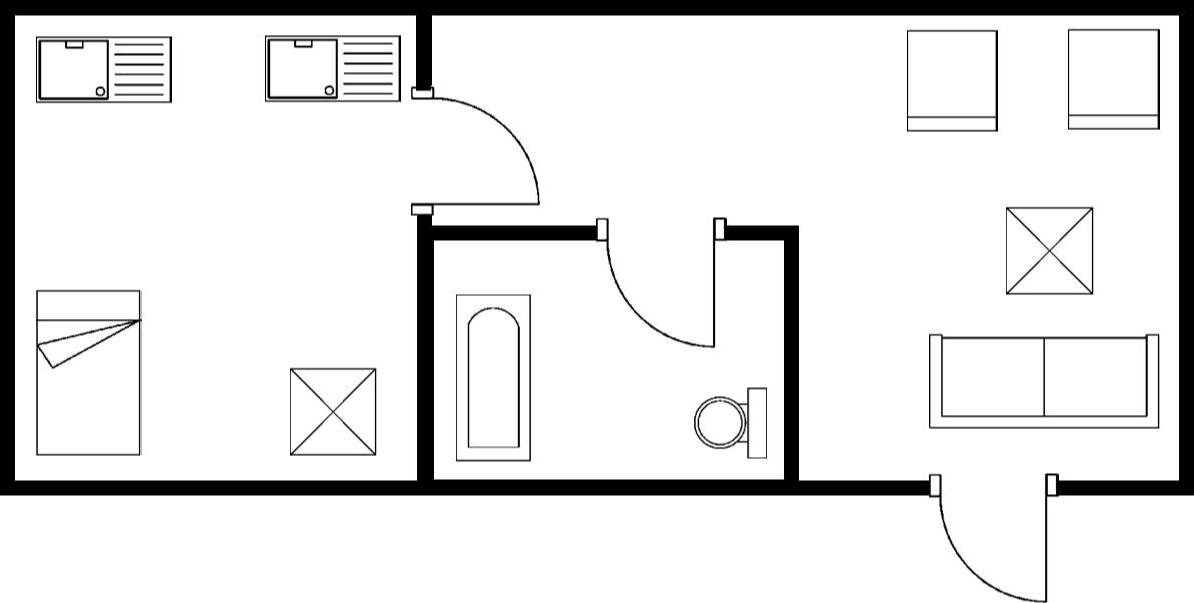bed: (31, 282, 151, 459)
sink: (29, 26, 180, 110), (259, 29, 406, 108)
sofa: (924, 326, 1167, 436)
toilet: (690, 382, 772, 464)
tub: (450, 286, 538, 468)
